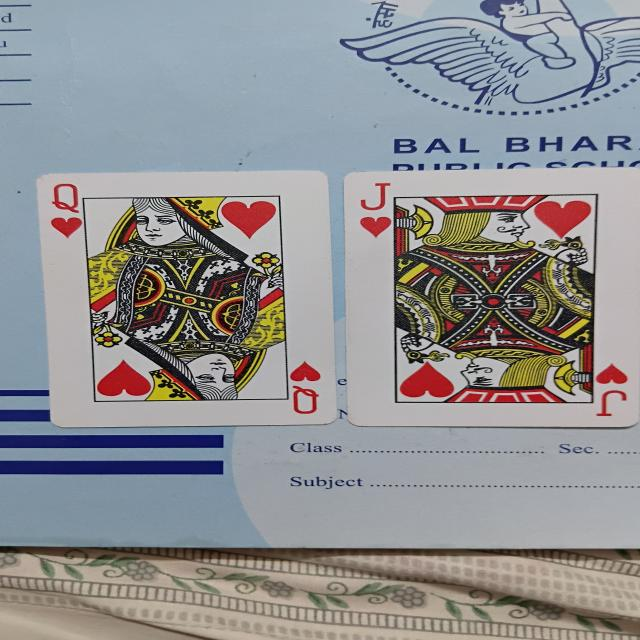JH: (354, 166, 633, 422)
QH: (47, 171, 343, 422)
